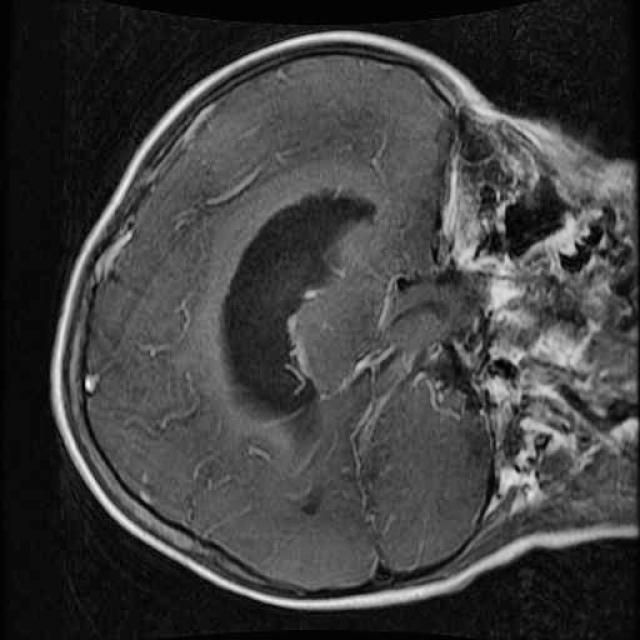Non-Tumor: (192, 176, 430, 464)
